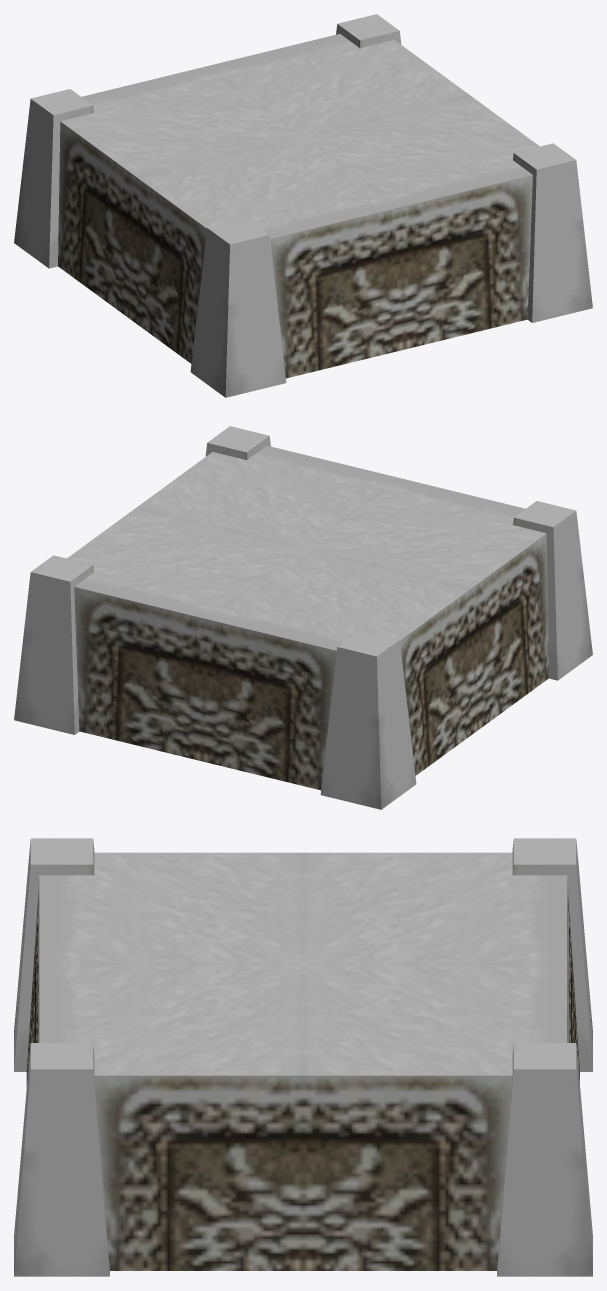
File: 1st_table_001.fbx
3 renders of one model, top to bottom at view 1: azimuth 30°, elevation 25°; view 2: azimuth 150°, elevation 25°; view 3: azimuth 270°, elevation 25°, orthographic. The views are drawn at different scales.
Parts seen in each view (by area): view 1: 1st_table_14; view 2: 1st_table_14; view 3: 1st_table_14.
Part boxes in pixels (left/top/right/bottom): 1st_table_14: left=14, top=14, right=592, bottom=397; 1st_table_14: left=14, top=426, right=592, bottom=809; 1st_table_14: left=14, top=838, right=592, bottom=1276.
Bounding box in the file's own units: 5.24 × 1.99 × 5.22.
